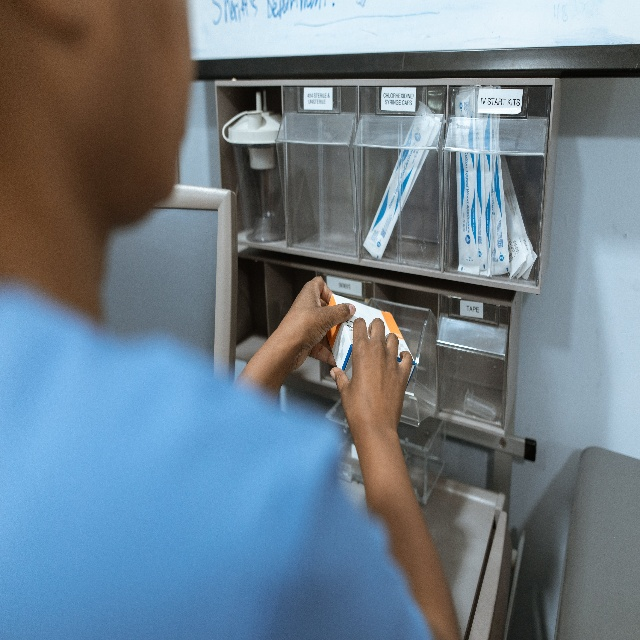Sin_guantes: (255, 271, 357, 375), (330, 322, 415, 435)
